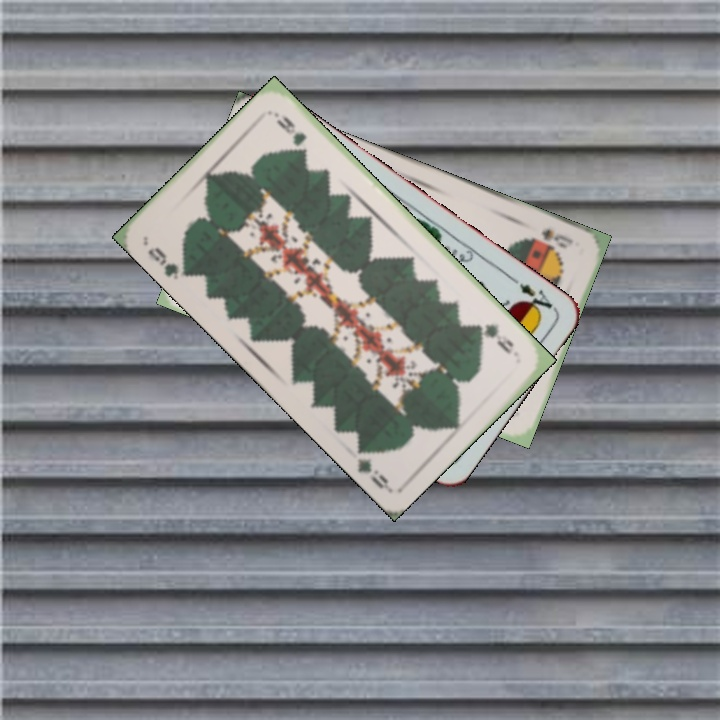EA: (505, 272, 556, 318)
G9: (473, 319, 517, 357), (143, 243, 181, 283)
SO: (528, 224, 576, 251)
